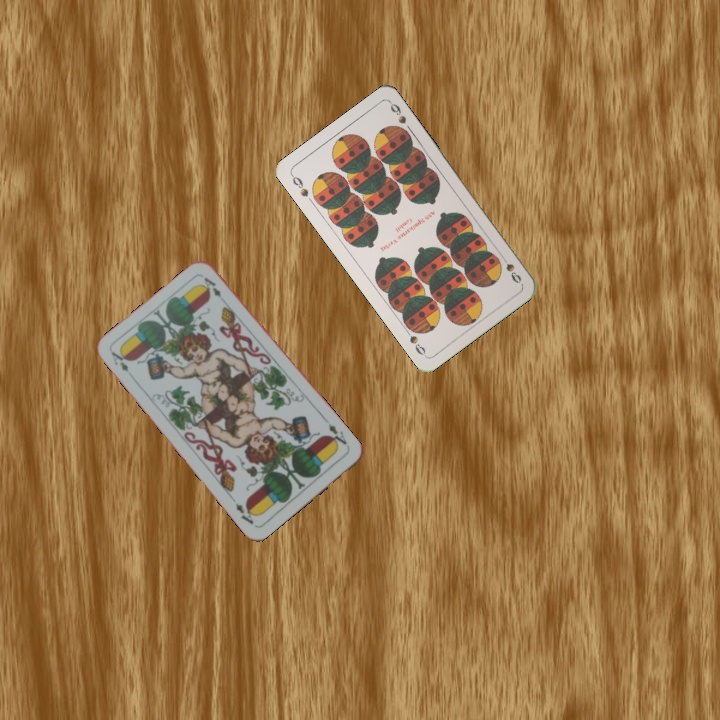EA: (324, 420, 350, 451), (107, 346, 131, 375)
S9: (496, 251, 524, 286), (287, 171, 311, 200)
